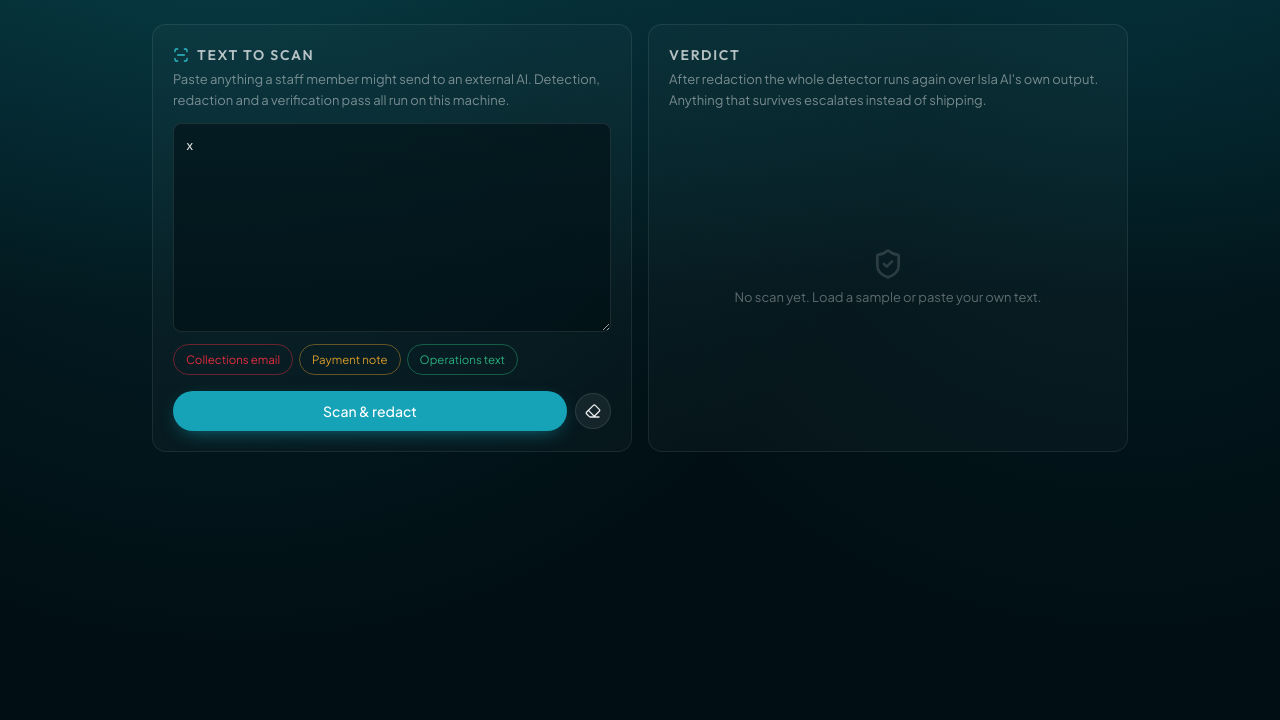
Test: EgressGuard › reports a failed scan and keeps the pasted text for a retry
Replace the text in the text box named "Text to scan for personal information" with "keep me" at (392, 228), box left=173, top=123, right=611, bottom=332
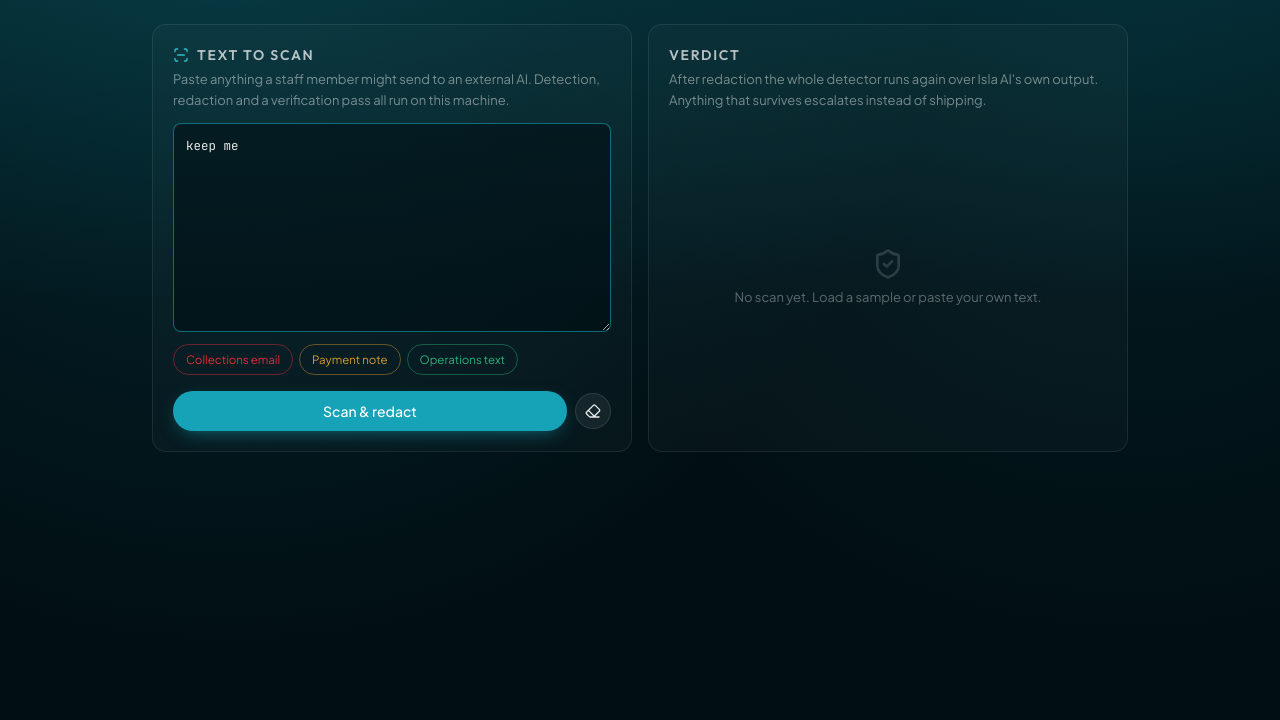
Click the button "Scan & redact".
click(370, 411)  # box left=173, top=391, right=567, bottom=431
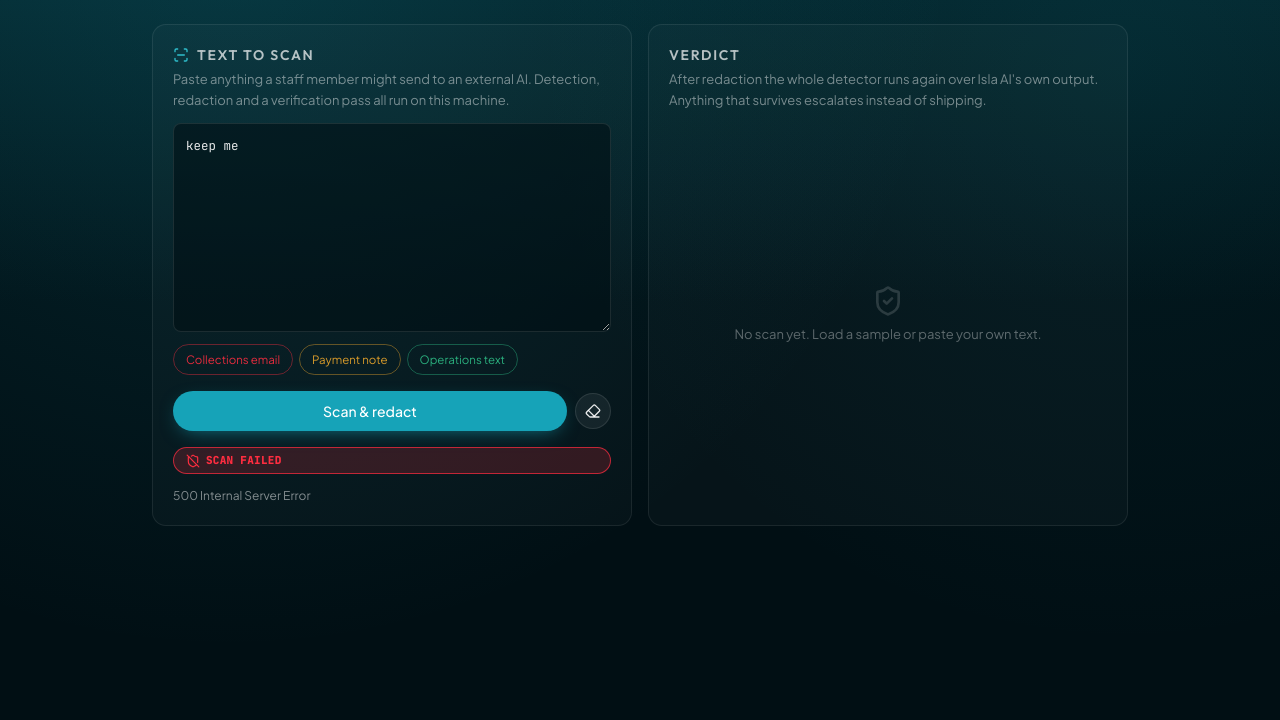
Result: the text "Scan failed" is shown at left=206, top=452, right=282, bottom=469
Result: the text "500 Internal Server Error" is shown at left=173, top=488, right=310, bottom=503
